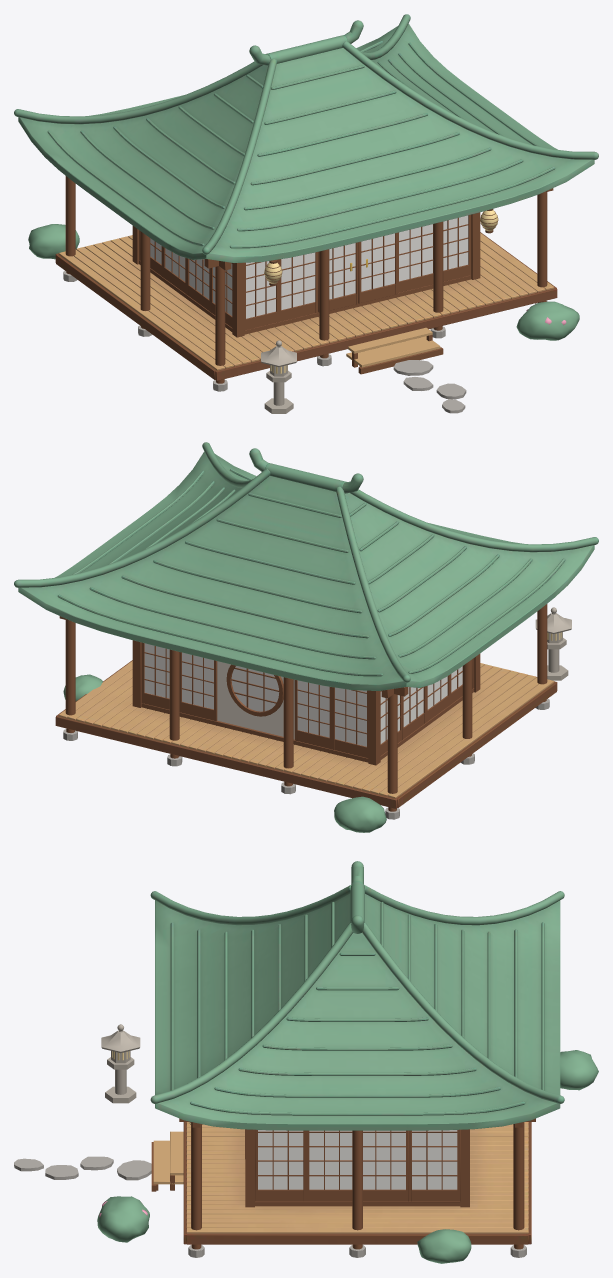
Rendered from tea_house.glb.
The picture shows the model from 3 angles, top to bottom: view 1: azimuth 30°, elevation 25°; view 2: azimuth 150°, elevation 25°; view 3: azimuth 270°, elevation 25°; orthographic projection. The views are drawn at different scales.
Visible parts, largest first — view 1: tea-house_body, tea-house_details, tea-house_plants, tea-house_garden, tea-house_sliding_door_right, tea-house_sliding_door_left; view 2: tea-house_body, tea-house_details, tea-house_plants, tea-house_garden; view 3: tea-house_body, tea-house_details, tea-house_plants, tea-house_garden.
Part boxes in pixels (left/top/right/bottom): tea-house_body: left=14, top=14, right=598, bottom=380; tea-house_details: left=63, top=176, right=553, bottom=391; tea-house_plants: left=28, top=224, right=579, bottom=340; tea-house_garden: left=261, top=340, right=466, bottom=413; tea-house_sliding_door_right: left=358, top=233, right=397, bottom=303; tea-house_sliding_door_left: left=318, top=242, right=358, bottom=312; tea-house_body: left=14, top=442, right=598, bottom=808; tea-house_details: left=59, top=604, right=549, bottom=819; tea-house_plants: left=63, top=674, right=386, bottom=832; tea-house_garden: left=535, top=607, right=571, bottom=680; tea-house_body: left=150, top=861, right=564, bottom=1244; tea-house_details: left=151, top=1118, right=535, bottom=1257; tea-house_plants: left=97, top=1050, right=598, bottom=1263; tea-house_garden: left=14, top=1024, right=151, bottom=1180.
Bounding box in the file's own units: 10.12 × 6.35 × 11.98.
Materials: 12 (1 with a texture image).
